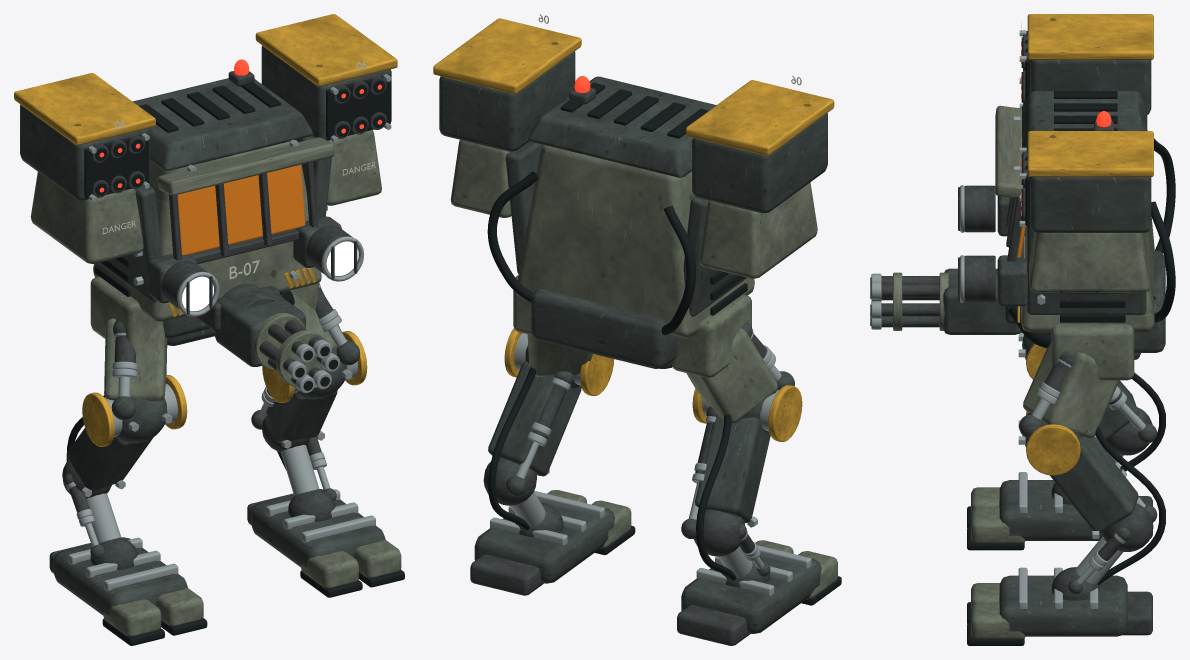
The model's file is Bastion_Industrial_Walker.glb.
3 renders of one model, left to right at view 1: azimuth 30°, elevation 25°; view 2: azimuth 150°, elevation 25°; view 3: azimuth 270°, elevation 25°, orthographic. The views are drawn at different scales.
Visible parts, largest first — view 1: Cockpit roof brow, Shoulder armored pauldron, Missile pod ochre top.001, Missile pod ochre top, Angular reinforced cockpit, Broad armored foot, Broad armored foot.001, Armored visor brow, Missile pod armored case, Missile pod armored case.001, Shoulder armored pauldron.001, Upper thigh armor (+48 smaller); view 2: Angular reinforced cockpit, Cockpit roof brow, Missile pod armored case, Belly reactor housing, Missile pod armored case.001, Shoulder armored pauldron, Missile pod ochre top, Missile pod ochre top.001, Reverse shin armor, Broad armored foot, Broad armored foot.001, Reverse shin armor.001 (+27 smaller); view 3: Shoulder armored pauldron.001, Missile pod armored case.001, Broad armored foot.001, Missile pod ochre top, Missile pod ochre top.001, Reverse shin armor.001, Upper thigh armor.001, Missile pod armored case, Broad armored foot, Hip actuator fairing.001, Cockpit roof brow, Cannon receiver (+37 smaller).
Part boxes in pixels (box(x1,y1,x2,y2)): Cockpit roof brow: box(133, 78, 312, 170); Shoulder armored pauldron: box(30, 172, 143, 263); Missile pod ochre top.001: box(255, 14, 397, 86); Missile pod ochre top: box(14, 73, 155, 145); Angular reinforced cockpit: box(93, 140, 321, 321); Broad armored foot: box(53, 537, 187, 615); Broad armored foot.001: box(251, 489, 385, 567); Armored visor brow: box(157, 137, 334, 195); Missile pod armored case: box(20, 104, 149, 200); Missile pod armored case.001: box(261, 45, 391, 140); Shoulder armored pauldron.001: box(327, 130, 381, 205); Upper thigh armor: box(104, 318, 167, 402); Angular reinforced cockpit: box(516, 144, 754, 337); Cockpit roof brow: box(528, 76, 716, 177); Missile pod armored case: box(692, 113, 827, 213); Belly reactor housing: box(531, 289, 677, 368); Missile pod armored case.001: box(439, 51, 575, 151); Shoulder armored pauldron: box(699, 182, 817, 278); Missile pod ochre top: box(686, 80, 834, 155); Missile pod ochre top.001: box(433, 18, 581, 93); Reverse shin armor: box(695, 415, 770, 523); Broad armored foot: box(681, 556, 821, 633); Broad armored foot.001: box(474, 505, 614, 583); Reverse shin armor.001: box(488, 361, 581, 475); Shoulder armored pauldron.001: box(1029, 232, 1150, 292); Missile pod armored case.001: box(1030, 177, 1151, 232); Broad armored foot.001: box(999, 575, 1127, 636); Missile pod ochre top: box(1027, 14, 1153, 59); Missile pod ochre top.001: box(1027, 131, 1153, 176); Reverse shin armor.001: box(1050, 437, 1138, 533); Upper thigh armor.001: box(1023, 342, 1119, 438); Missile pod armored case: box(1030, 60, 1151, 114); Broad armored foot: box(999, 480, 1102, 540); Hip actuator fairing.001: box(1051, 324, 1134, 380); Cockpit roof brow: box(1022, 91, 1147, 154); Cannon receiver: box(943, 268, 1020, 334).
Bounding box in the file's own units: 3.65 × 5.44 × 3.02.
10 materials, 4 textured.
